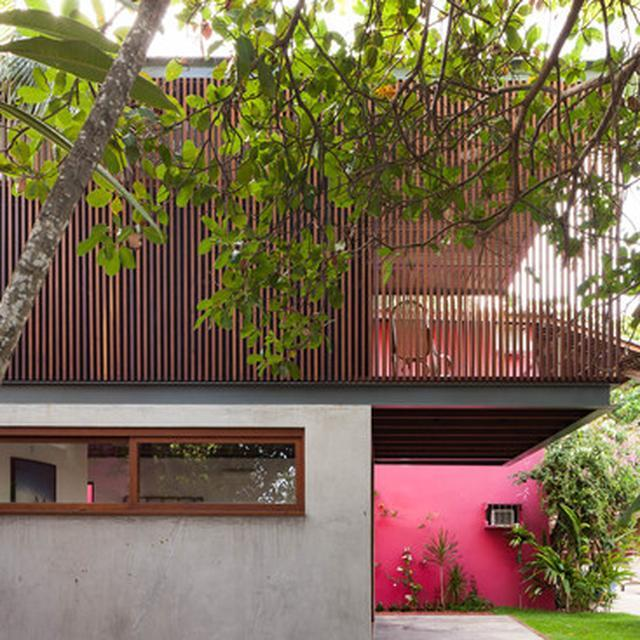building: (0, 51, 622, 640)
